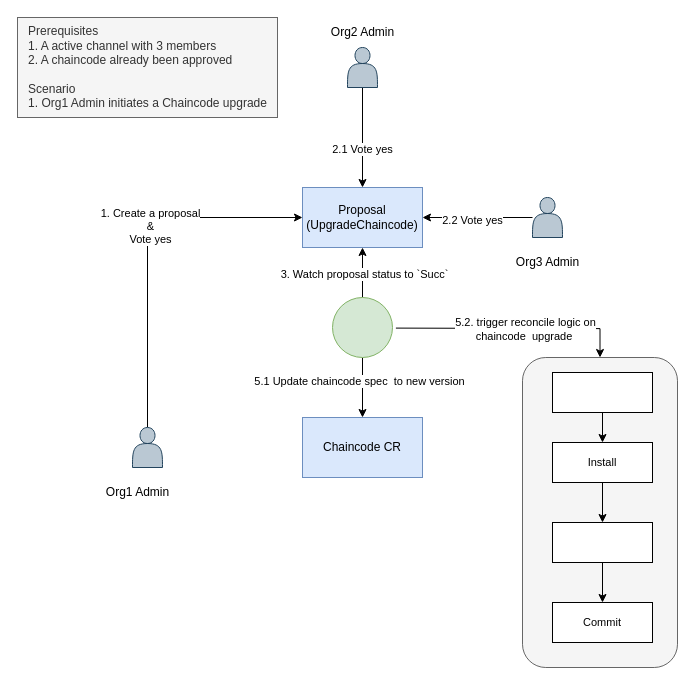
Image size: 695x685. Some labels were removed from this diagram. The shapes that lost their labels are listed below. From the top down, each one's centre as x and y in pixels, then its label:
At [362,327]: "Chaincode Controller".
At [602,392]: "Package".
At [602,542]: "Approve".
